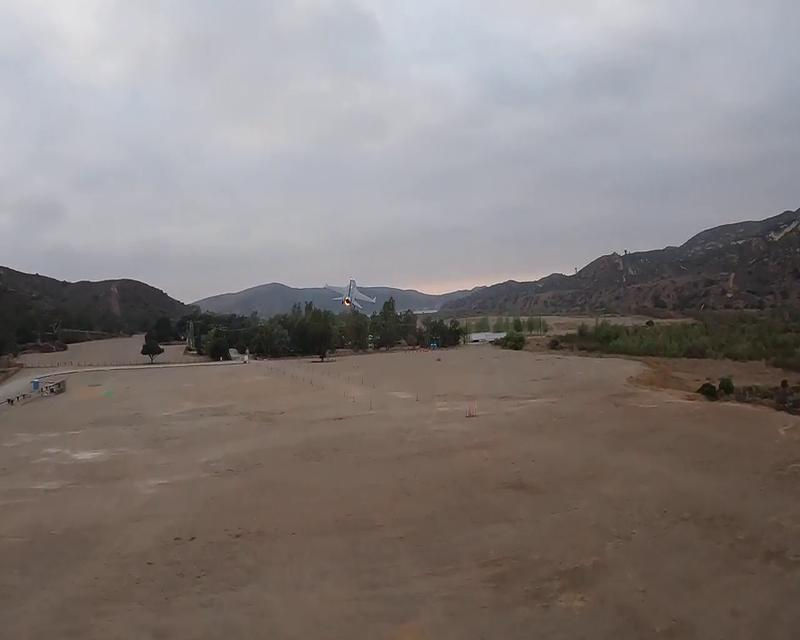UAV: (323, 277, 377, 310)
